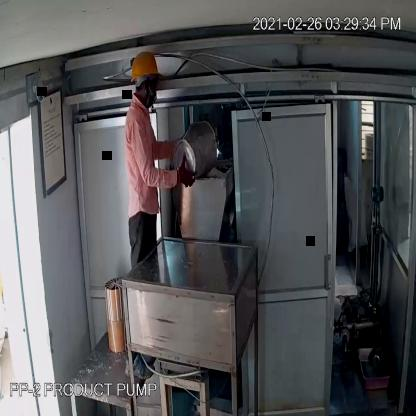helmet: (129, 48, 163, 86)
